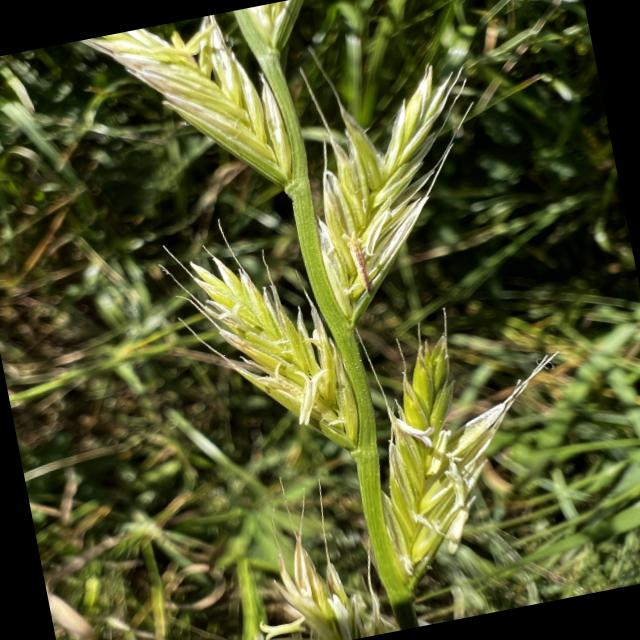Lolium: (78, 0, 618, 640)
